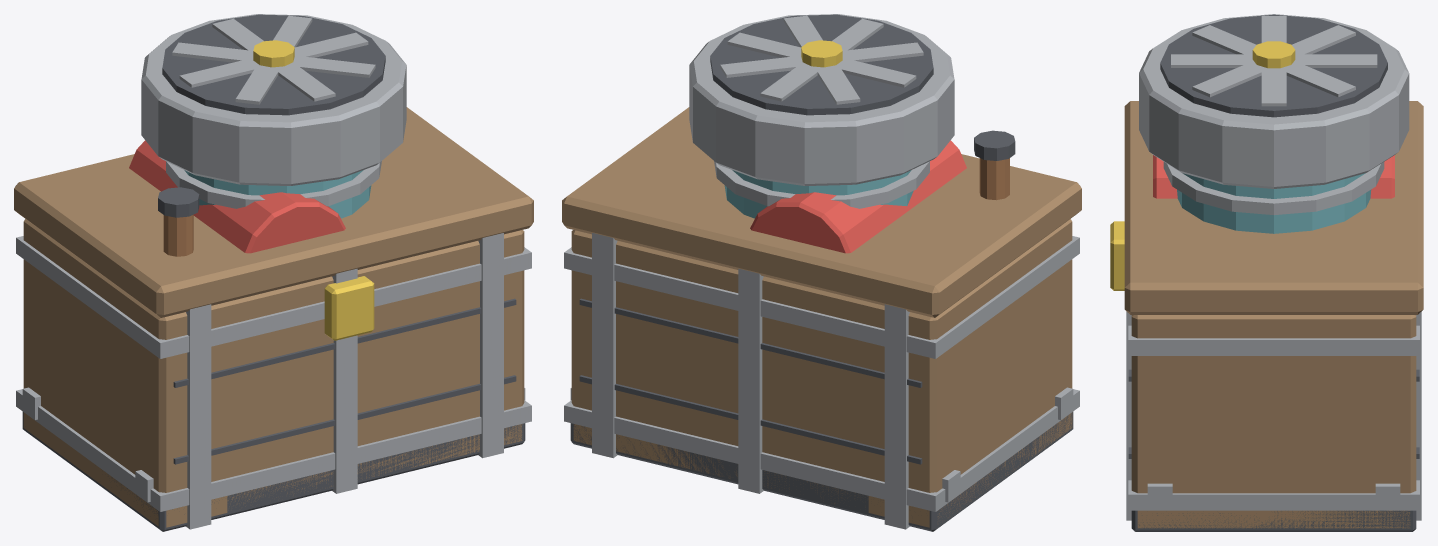
Rendered from RoofProps.fbx.
3 renders of one model, left to right at view 1: azimuth 30°, elevation 25°; view 2: azimuth 150°, elevation 25°; view 3: azimuth 270°, elevation 25°, orthographic.
Parts seen in each view (by area): view 1: StorageCrate_Body_Wood, StorageCrate_Lid_Wood, AirFilter_FanHousing_Metal, AirFilter_FanGrille_Dark, StorageCrate_Rim2.9_Metal, StorageCrate_Rim0.5_Metal, Generator_Tank_Red, StorageCrate_Band-2.4_Metal, StorageCrate_Band2.4_Metal, StorageCrate_Band0_Metal, AirFilter_Base_Dark, Generator_Skid_Dark (+12 smaller); view 2: StorageCrate_Body_Wood, StorageCrate_Lid_Wood, AirFilter_FanHousing_Metal, AirFilter_FanGrille_Dark, StorageCrate_Rim2.9_Metal, StorageCrate_Rim0.5_Metal, Generator_Tank_Red, StorageCrate_Band-2.4_Metal, StorageCrate_Band0_Metal, StorageCrate_Band2.4_Metal, Generator_Skid_Dark, AirFilter_Base_Dark (+11 smaller); view 3: StorageCrate_Body_Wood, StorageCrate_Lid_Wood, AirFilter_FanHousing_Metal, AirFilter_FanGrille_Dark, StorageCrate_Rim2.9_Metal, AirFilter_Column_Teal, StorageCrate_Rim0.5_Metal, AirFilter_Ring3_Metal, Generator_Skid_Dark, AirFilter_Blade2_Metal, AirFilter_Blade3_Metal, AirFilter_Blade1_Metal (+7 smaller).
Part boxes in pixels (left/top/right/bottom): StorageCrate_Body_Wood: left=23, top=219, right=524, bottom=527; StorageCrate_Lid_Wood: left=14, top=107, right=533, bottom=317; AirFilter_FanHousing_Metal: left=141, top=14, right=406, bottom=185; AirFilter_FanGrille_Dark: left=162, top=14, right=385, bottom=115; StorageCrate_Rim2.9_Metal: left=16, top=236, right=531, bottom=358; StorageCrate_Rim0.5_Metal: left=16, top=389, right=531, bottom=511; Generator_Tank_Red: left=129, top=140, right=345, bottom=253; StorageCrate_Band-2.4_Metal: left=186, top=304, right=211, bottom=529; StorageCrate_Band2.4_Metal: left=478, top=233, right=503, bottom=458; StorageCrate_Band0_Metal: left=332, top=268, right=357, bottom=493; AirFilter_Base_Dark: left=227, top=439, right=461, bottom=512; Generator_Skid_Dark: left=22, top=412, right=525, bottom=531; StorageCrate_Body_Wood: left=571, top=219, right=1072, bottom=527; StorageCrate_Lid_Wood: left=562, top=107, right=1081, bottom=317; AirFilter_FanHousing_Metal: left=689, top=14, right=954, bottom=185; AirFilter_FanGrille_Dark: left=710, top=14, right=933, bottom=115; StorageCrate_Rim2.9_Metal: left=564, top=236, right=1079, bottom=358; StorageCrate_Rim0.5_Metal: left=564, top=389, right=1079, bottom=511; Generator_Tank_Red: left=750, top=140, right=966, bottom=253; StorageCrate_Band-2.4_Metal: left=884, top=304, right=909, bottom=529; StorageCrate_Band0_Metal: left=738, top=268, right=763, bottom=493; StorageCrate_Band2.4_Metal: left=592, top=233, right=617, bottom=458; Generator_Skid_Dark: left=570, top=412, right=1073, bottom=531; AirFilter_Base_Dark: left=642, top=443, right=868, bottom=512; StorageCrate_Body_Wood: left=1131, top=315, right=1416, bottom=528; StorageCrate_Lid_Wood: left=1124, top=101, right=1423, bottom=314; AirFilter_FanHousing_Metal: left=1139, top=14, right=1409, bottom=188; AirFilter_FanGrille_Dark: left=1160, top=14, right=1387, bottom=117; StorageCrate_Rim2.9_Metal: left=1128, top=325, right=1419, bottom=355; AirFilter_Column_Teal: left=1177, top=173, right=1371, bottom=233; StorageCrate_Rim0.5_Metal: left=1128, top=480, right=1419, bottom=510; AirFilter_Ring3_Metal: left=1163, top=162, right=1384, bottom=215; Generator_Skid_Dark: left=1131, top=510, right=1416, bottom=531; AirFilter_Blade2_Metal: left=1171, top=54, right=1377, bottom=67; AirFilter_Blade3_Metal: left=1192, top=25, right=1355, bottom=97; AirFilter_Blade1_Metal: left=1192, top=25, right=1355, bottom=97.
Bounding box in the file's own units: 6.2 × 6.1 × 4.4.
